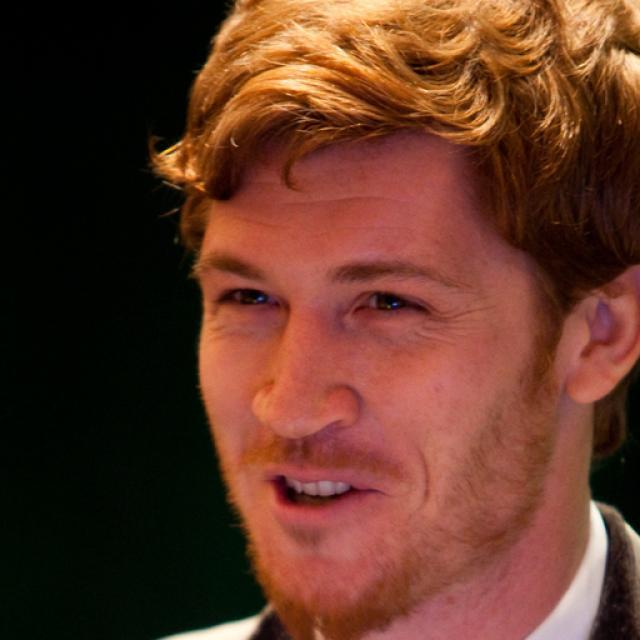content: (190, 112, 574, 620)
